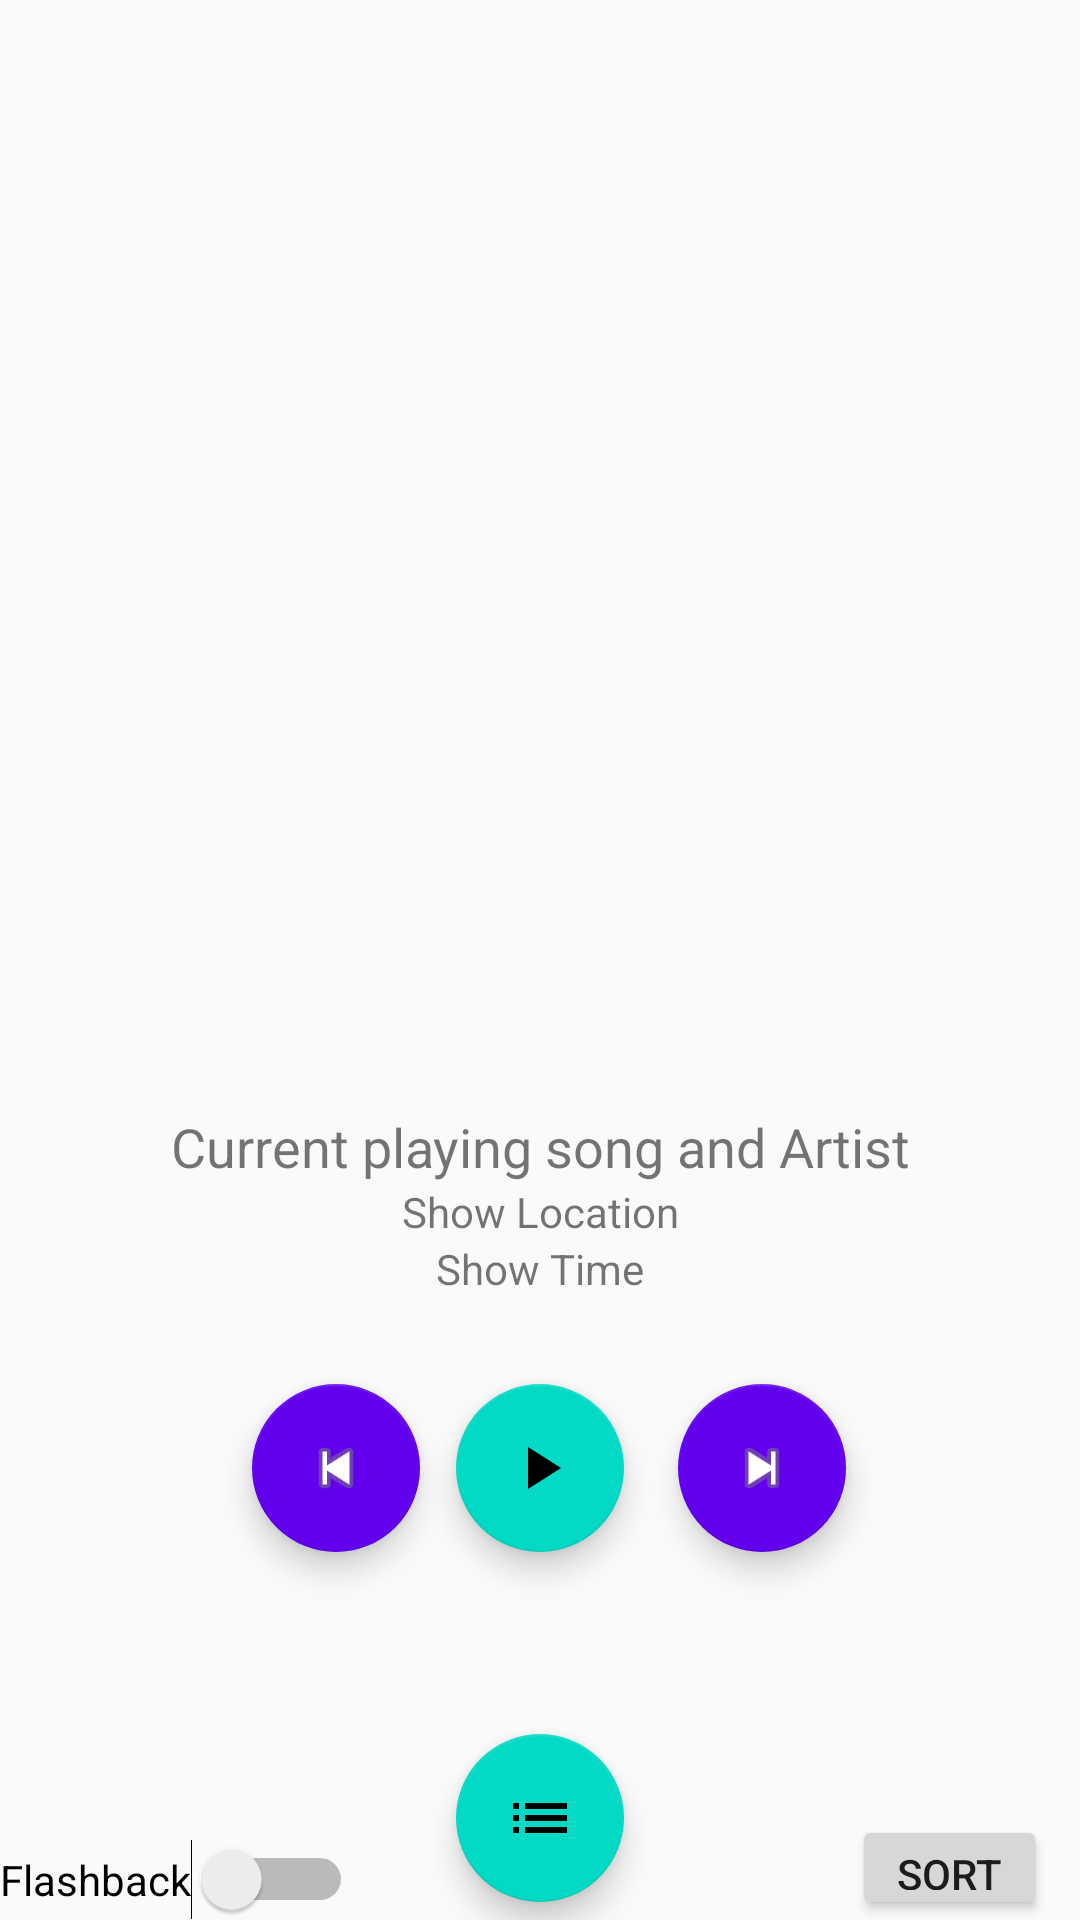

Icon click points for this 1080px×1920px phone screenshot, format [x,y]:
list: [540,1818]
next: [762,1468]
play arrow: [540,1468]
previous: [336,1468]
